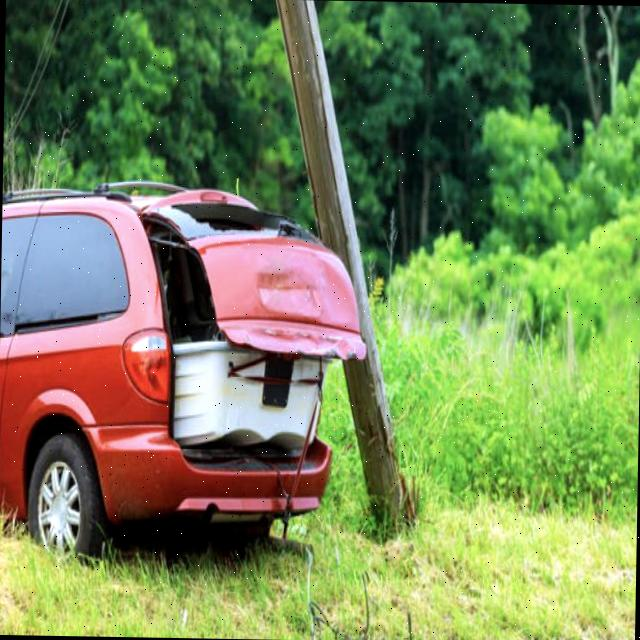Broken Pole: (278, 0, 414, 528)
